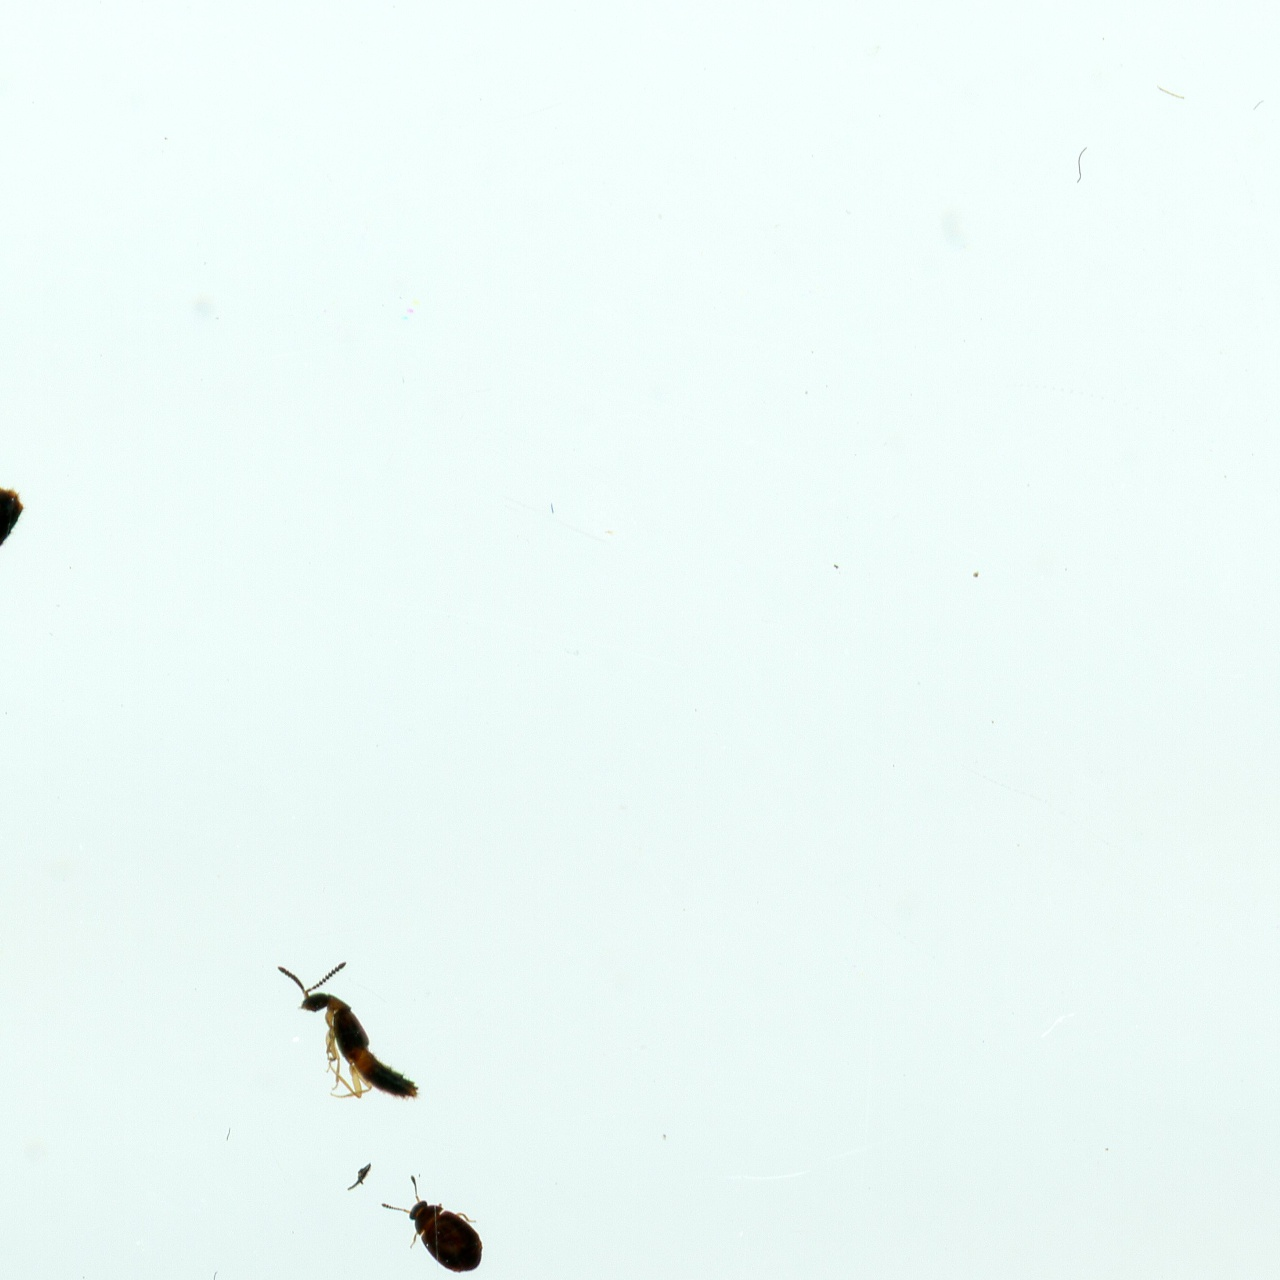arthropod: (268, 949, 430, 1115), (379, 1171, 490, 1280), (0, 443, 48, 692)
